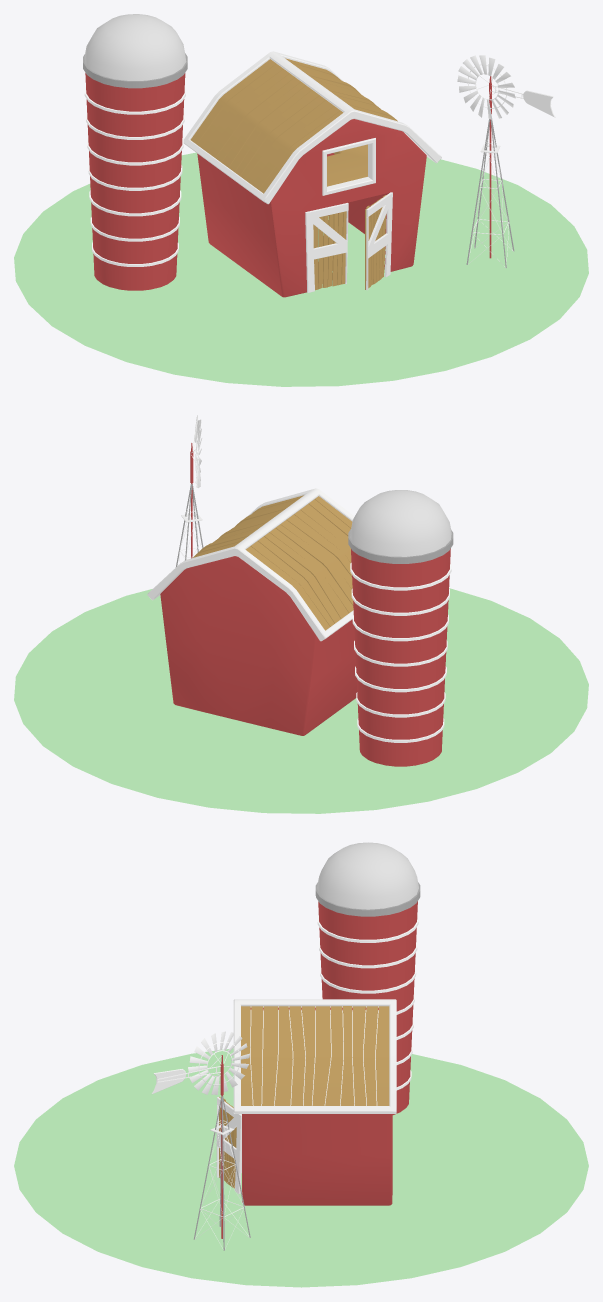
The picture shows the model from 3 angles, top to bottom: view 1: azimuth 30°, elevation 25°; view 2: azimuth 150°, elevation 25°; view 3: azimuth 270°, elevation 25°; orthographic projection.
Parts seen in each view (by area): view 1: Disc, 3_3_Mat.2_0, 2_2_Mat.2_0, 1_3_Mat_0, 2_3_Mat.1_0, 1_2_Mat.1_0, 4_2_Mat.1_0, 3_Mat.1_0, 2_Mat.1_0, 5_Mat.1_0, 3_2_Mat.1_0, 6_Mat.2_0; view 2: Disc, 3_3_Mat.2_0, 2_2_Mat.2_0, 1_3_Mat_0, 1_2_Mat.1_0, 2_3_Mat.1_0, 4_2_Mat.1_0, 3_2_Mat.1_0; view 3: Disc, 1_3_Mat_0, 3_3_Mat.2_0, 2_2_Mat.2_0, 2_3_Mat.1_0, 1_2_Mat.1_0, 4_2_Mat.1_0, 3_Mat.1_0, 2_Mat.1_0, 5_Mat.1_0, 3_2_Mat.1_0.
Part boxes in pixels (<box>): Disc: <box>14,152,588,386</box>; 3_3_Mat.2_0: <box>197,119,426,297</box>; 2_2_Mat.2_0: <box>85,73,185,290</box>; 1_3_Mat_0: <box>190,58,397,290</box>; 2_3_Mat.1_0: <box>183,51,441,292</box>; 1_2_Mat.1_0: <box>84,14,186,80</box>; 4_2_Mat.1_0: <box>84,86,185,266</box>; 3_Mat.1_0: <box>457,55,515,119</box>; 2_Mat.1_0: <box>468,64,551,267</box>; 5_Mat.1_0: <box>466,119,514,267</box>; 3_2_Mat.1_0: <box>83,53,187,88</box>; 6_Mat.2_0: <box>489,76,491,258</box>; Disc: <box>14,588,588,813</box>; 3_3_Mat.2_0: <box>160,556,357,735</box>; 2_2_Mat.2_0: <box>351,548,450,766</box>; 1_3_Mat_0: <box>192,495,353,630</box>; 1_2_Mat.1_0: <box>350,490,451,556</box>; 2_3_Mat.1_0: <box>147,488,354,641</box>; 4_2_Mat.1_0: <box>350,562,451,742</box>; 3_2_Mat.1_0: <box>348,529,453,563</box>; Disc: <box>14,1048,588,1287</box>; 1_3_Mat_0: <box>219,1006,389,1188</box>; 3_3_Mat.2_0: <box>242,1007,392,1205</box>; 2_2_Mat.2_0: <box>318,901,417,1114</box>; 2_3_Mat.1_0: <box>216,999,396,1193</box>; 1_2_Mat.1_0: <box>317,842,418,909</box>; 4_2_Mat.1_0: <box>317,915,418,1090</box>; 3_Mat.1_0: <box>188,1031,249,1094</box>; 2_Mat.1_0: <box>157,1041,249,1249</box>; 5_Mat.1_0: <box>193,1096,250,1250</box>; 3_2_Mat.1_0: <box>315,882,420,916</box>.
Size of the model in its own units: 13.59 by 6.61 by 13.59.
